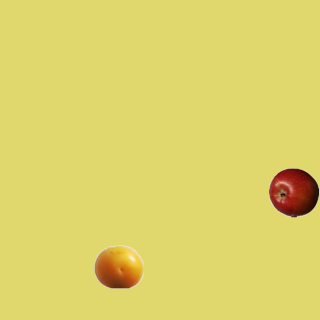Apple Braeburn: (268, 167, 318, 217)
Cherry Wax Yellow: (93, 241, 143, 291)
